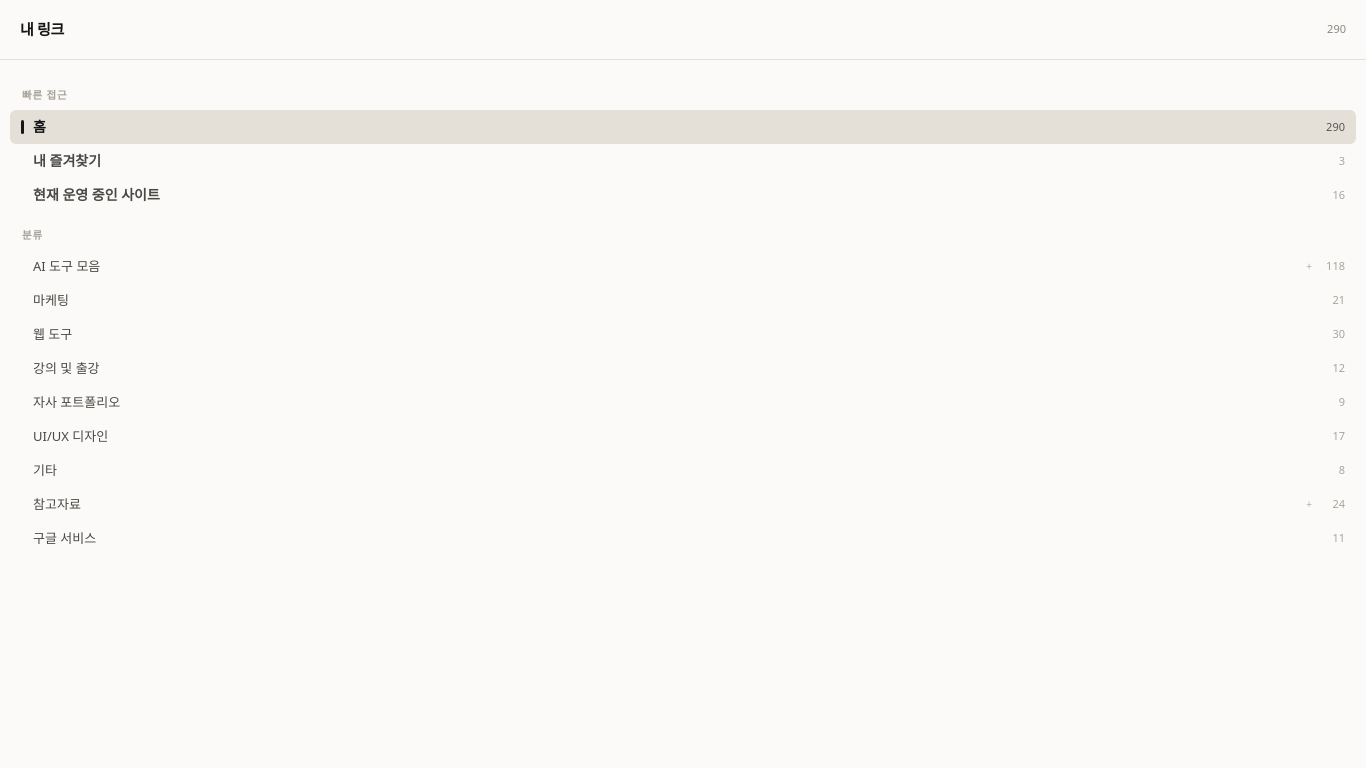
Test: Sidebar › 하위 펼침 토글 › + 를 누르면 하위가 펼쳐지고 기호가 – 로 바뀐다
Expected: the link "대화·검색" is not shown
Click the button named "AI 도구 모음 하위 분류 펼치기" at (1309, 266), box [1304,250,1314,284]
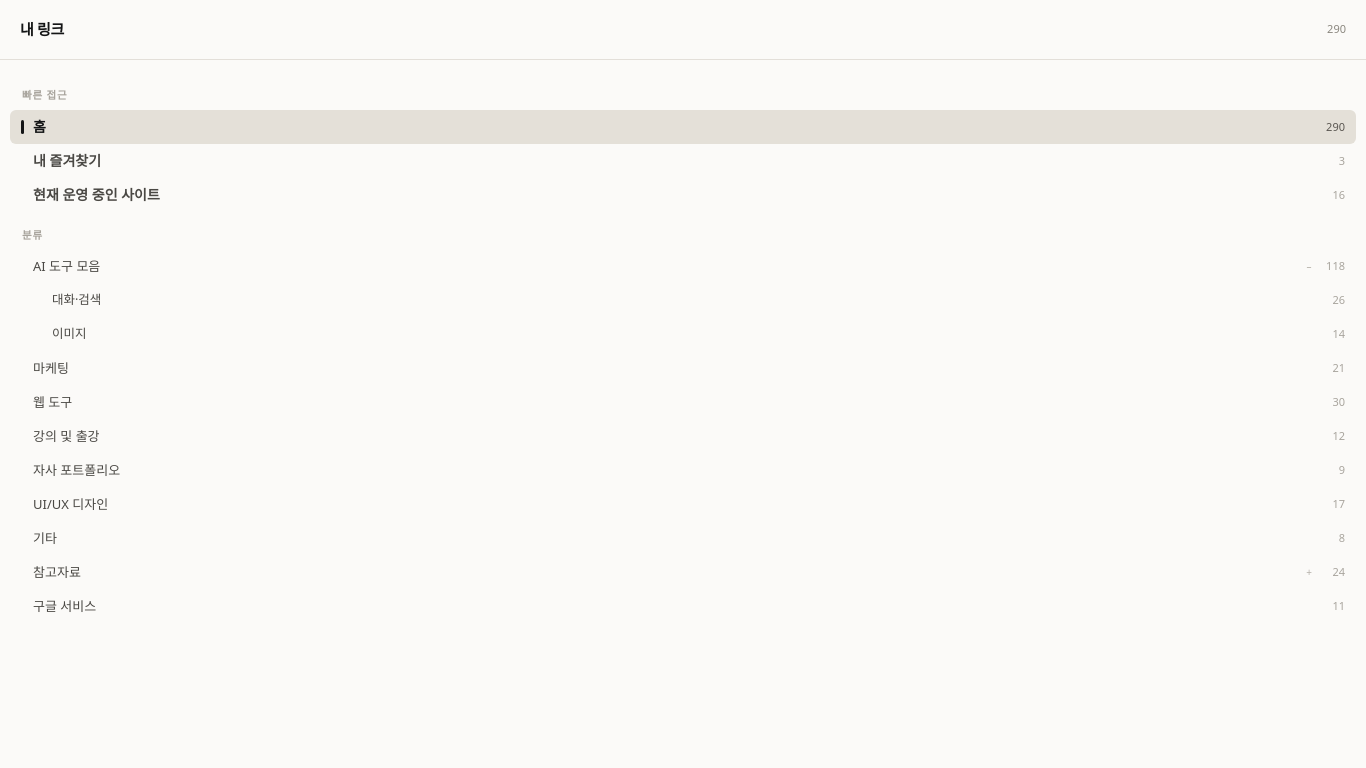
Result: the button named "AI 도구 모음 하위 분류 접기" reads "–" at [1304,250,1314,284]
Result: the button named "AI 도구 모음 하위 분류 접기" is expanded at [1304,250,1314,284]
